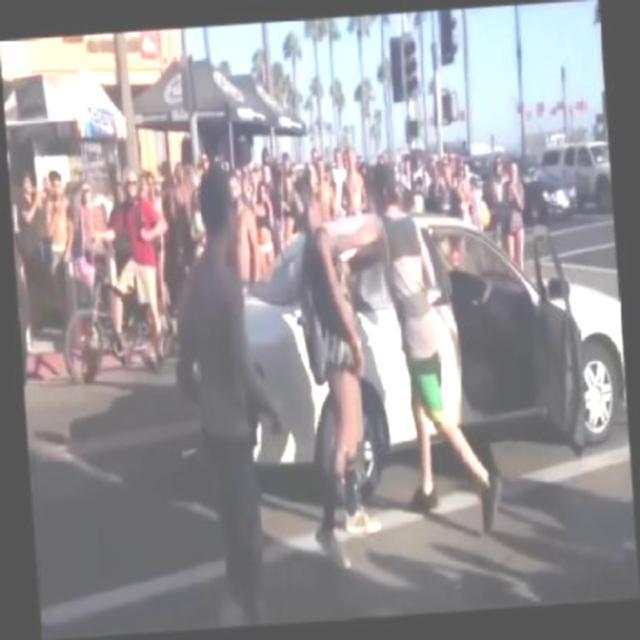fight: (288, 168, 463, 546)
non-fight: (164, 164, 278, 620)
